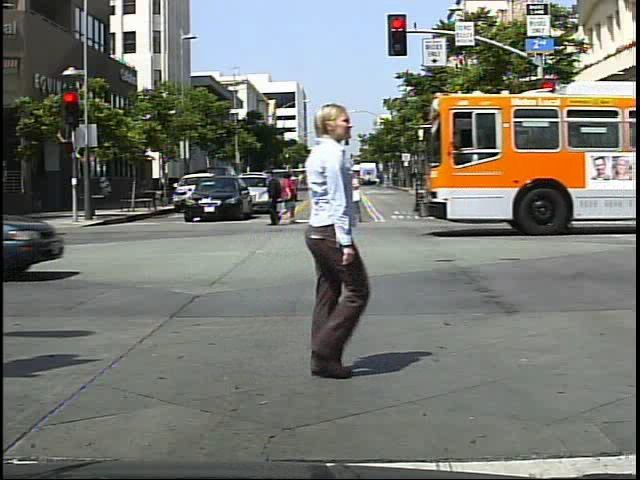person: (246, 89, 378, 388), (260, 164, 293, 236), (345, 163, 365, 225), (551, 160, 573, 211), (277, 171, 299, 203)
